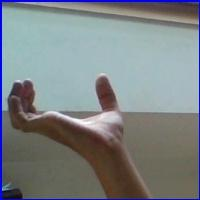B: (3, 70, 133, 179)
